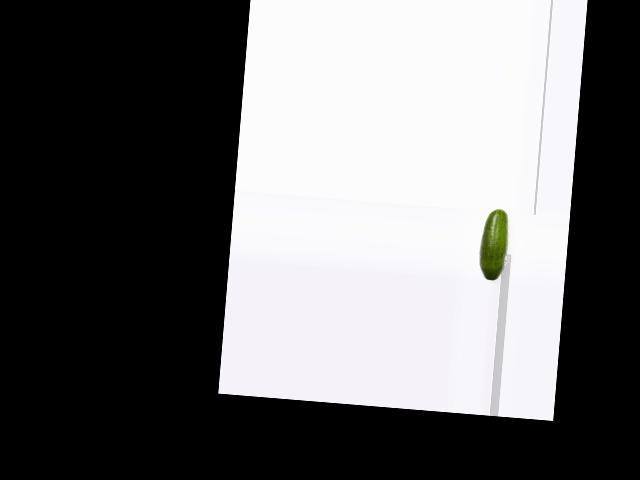cucumber: (477, 207, 511, 282)
